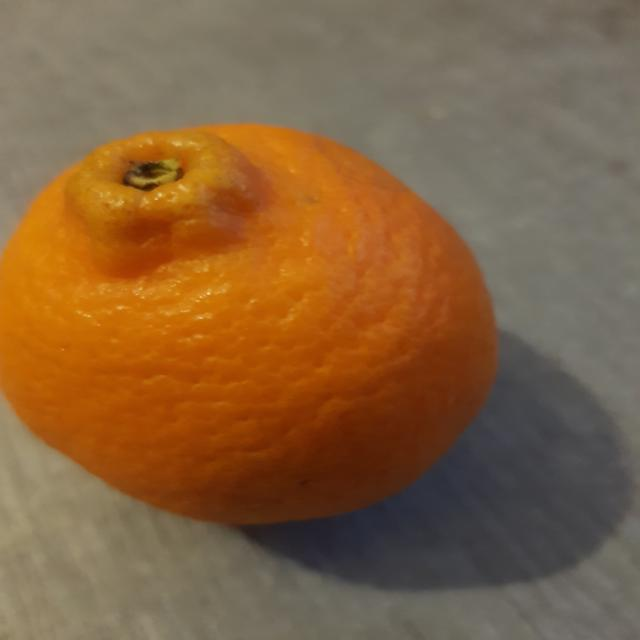Orange: (0, 124, 499, 530)
